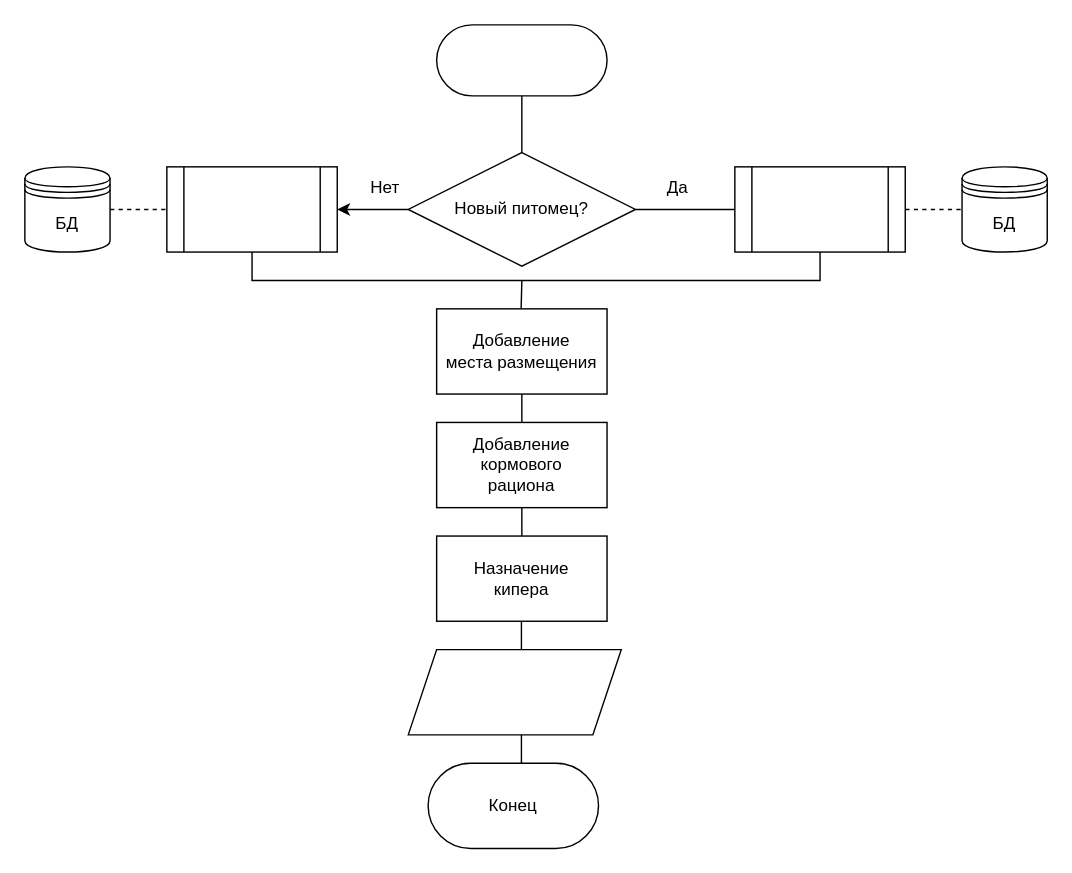
Image size: 1072x873. Some labels were removed from this diagram. The centre of each missing label's shape, as x and y in pixels:
"Внесение данных нового питомца" belongs at (819,208).
"Вывод сформированной записи" belongs at (514,691).
"Начало" belongs at (521,59).
"Обращение к БД" belongs at (251,208).
